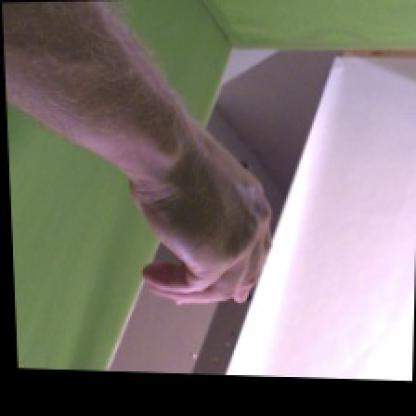Hand: (139, 127, 274, 304)
